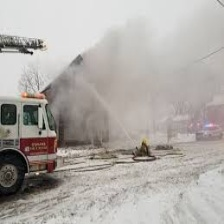smoke: (112, 33, 187, 95)
